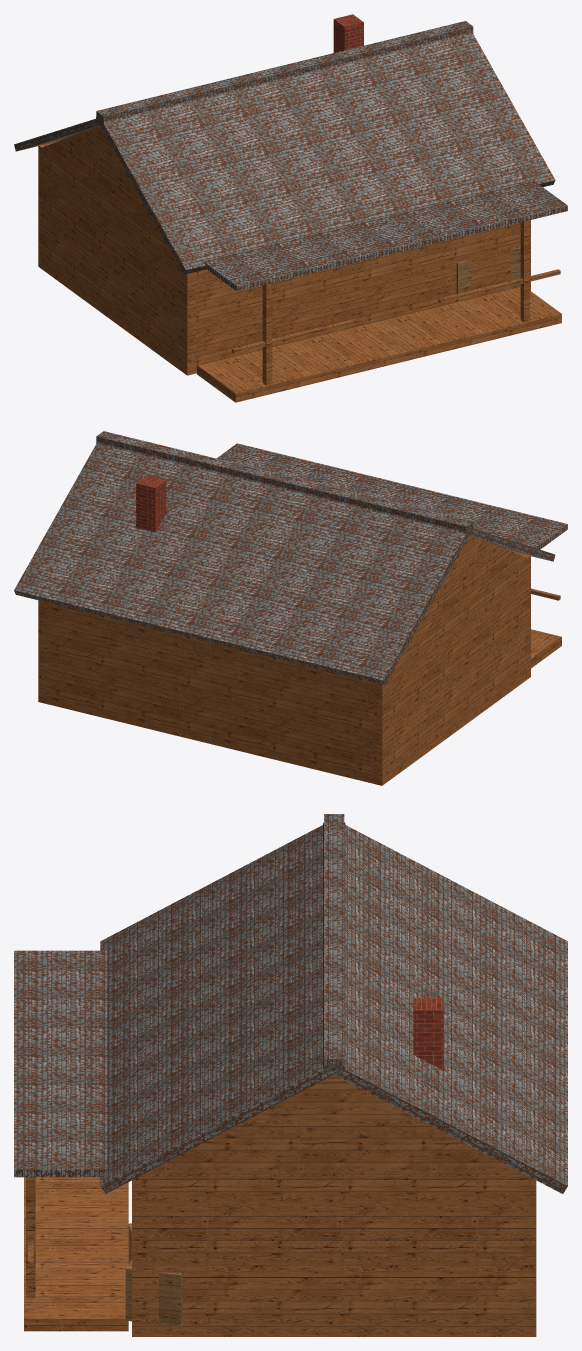
The model's file is cabin_wood.glb.
The picture shows the model from 3 angles, top to bottom: view 1: azimuth 30°, elevation 25°; view 2: azimuth 150°, elevation 25°; view 3: azimuth 270°, elevation 25°; orthographic projection. The views are drawn at different scales.
Visible parts, largest first — view 1: CabinWood; view 2: CabinWood; view 3: CabinWood.
Part boxes in pixels (x1=…): CabinWood: x1=14, y1=14, x2=567, y2=402; CabinWood: x1=14, y1=431, x2=567, y2=785; CabinWood: x1=14, y1=814, x2=567, y2=1336.
Bounding box in the file's own units: 8.6 × 4.69 × 8.22.
7 materials, 5 textured.
